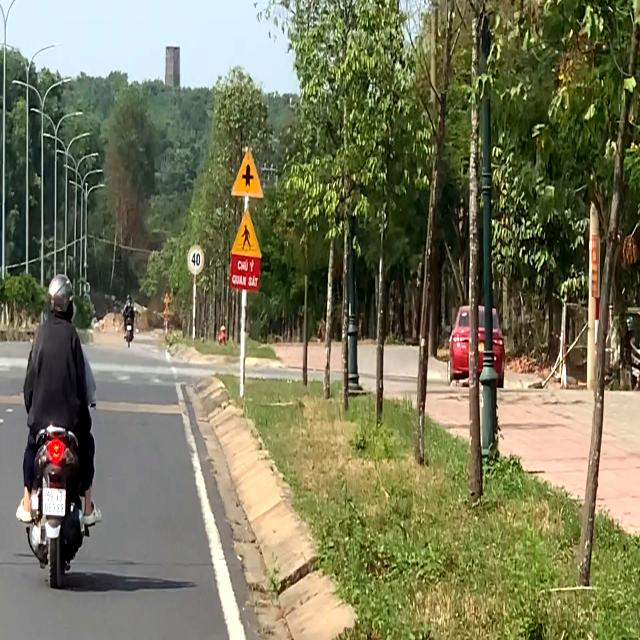P.127: (186, 242, 207, 276)
W.207a: (228, 144, 266, 203)
W.224: (229, 205, 264, 262)
